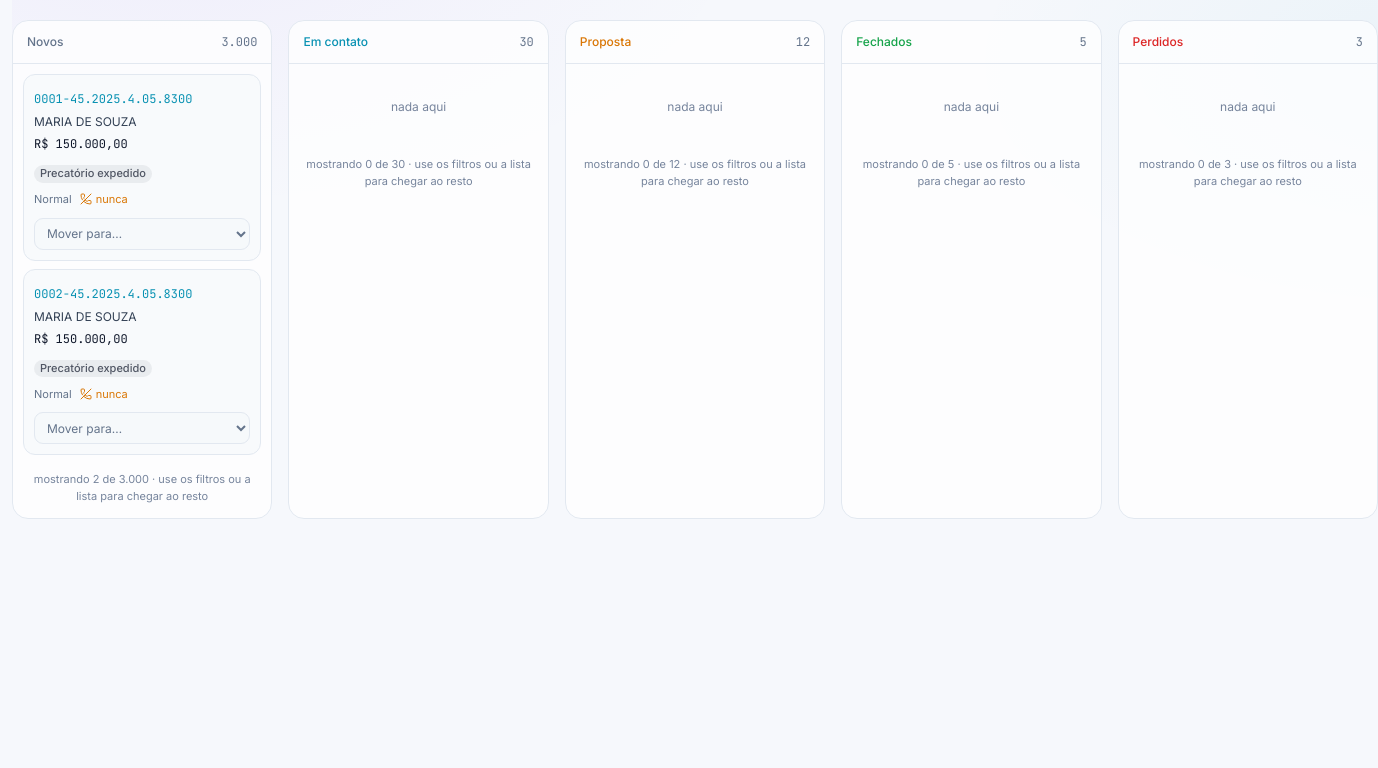
Test: Quadro › erro do servidor devolve o cartão para a coluna de origem
Check: the element labelled "Novos" is shown, box x1=12 y1=20 x2=272 y2=519
Select "Em contato" in the dropdown named "Mover 0001-45" at (142, 234), box x1=34 y1=218 x2=250 y2=250
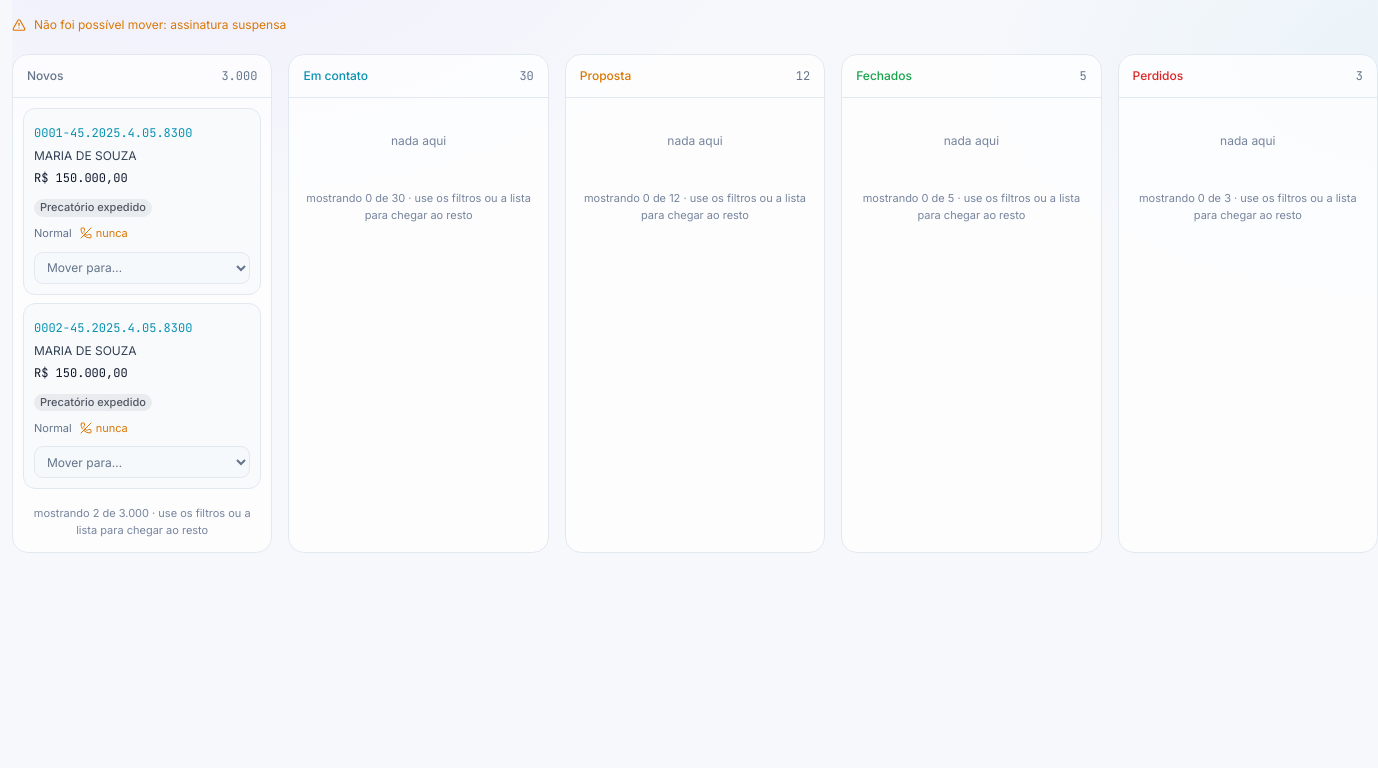
Check: the link "0001-45.2025.4.05.8300" is shown, box x1=34 y1=125 x2=192 y2=141
Check: the text "Não foi possível mover: assinatura suspensa" is shown, box x1=34 y1=16 x2=286 y2=34
